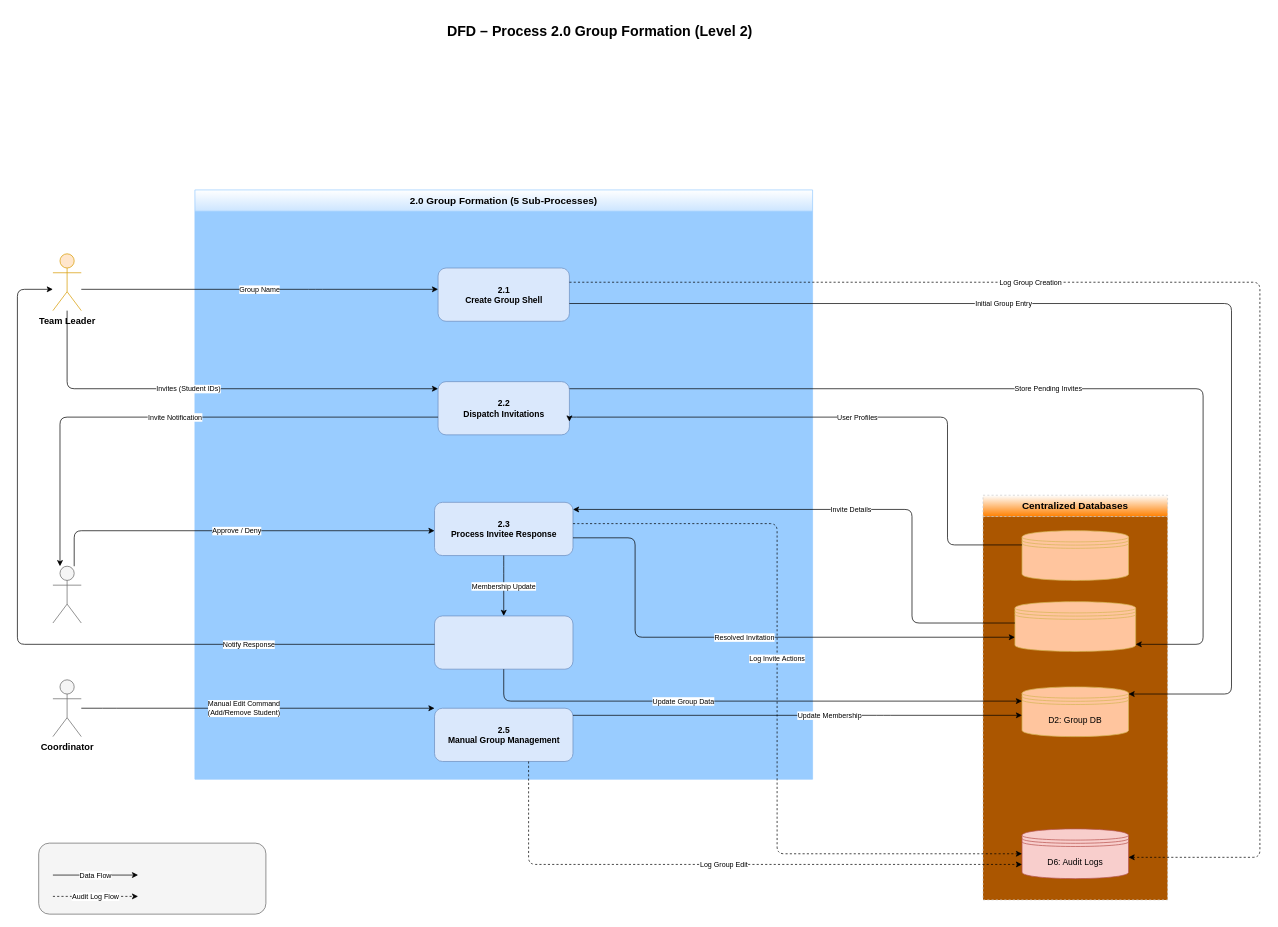
Some shapes in this 1278 by 927 pixel diagram are drawn without their labels. Each missing label, with the centre of its shape:
2.4 Finalize Group Membership: (x=503, y=642)
D1: User DB: (x=1075, y=555)
D8: Pending Invitations: (x=1075, y=626)
Legend: (x=152, y=878)
Student: (x=66, y=594)
